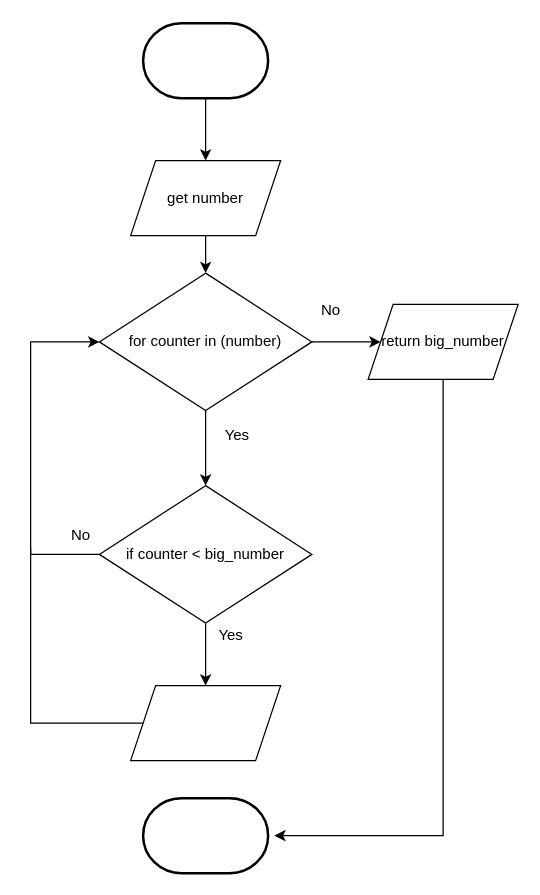
Some shapes in this 540 by 895 pixel diagram are drawn without their labels. Each missing label, with the box of its shape:
big_number = counter: (129, 684, 281, 761)
start: (141, 21, 269, 99)
